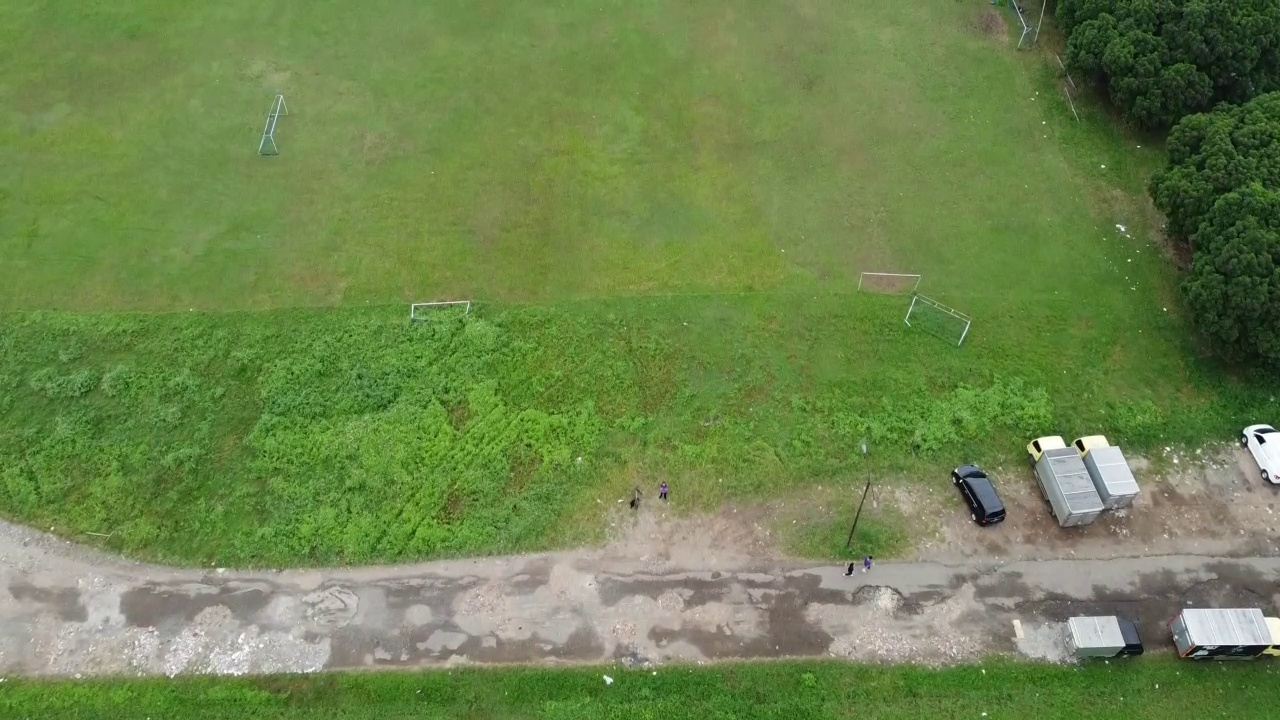mobil: (940, 458, 1012, 531), (1232, 414, 1280, 485)
